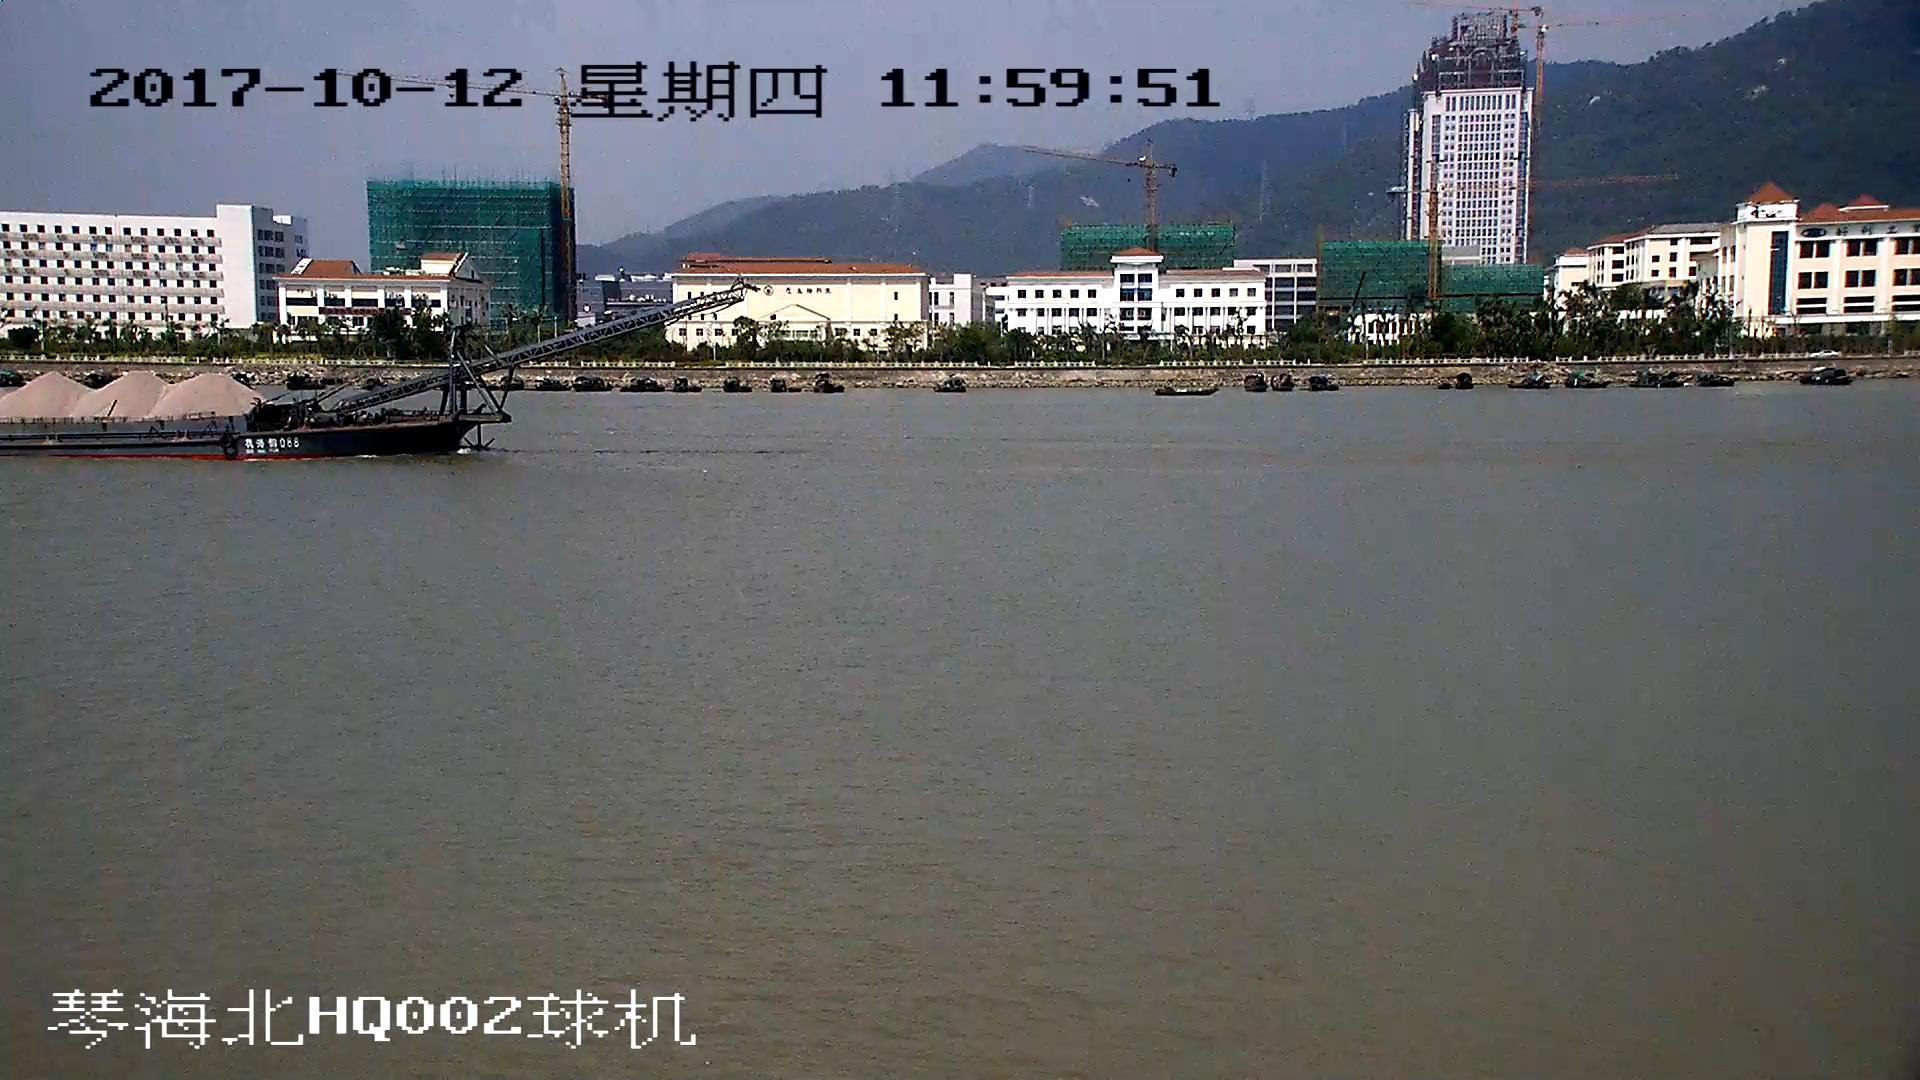Ship: (3, 289, 742, 464)
